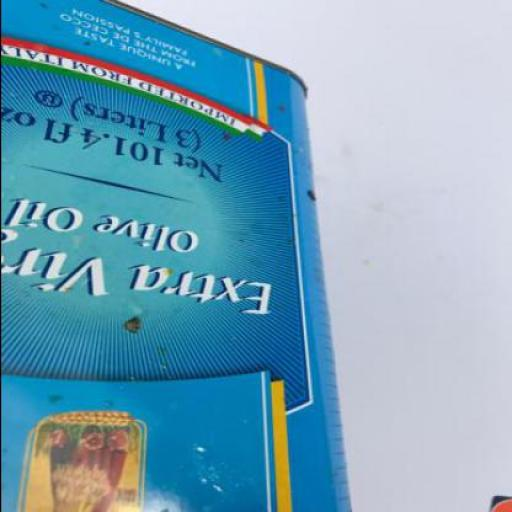metal: (1, 0, 353, 511)
